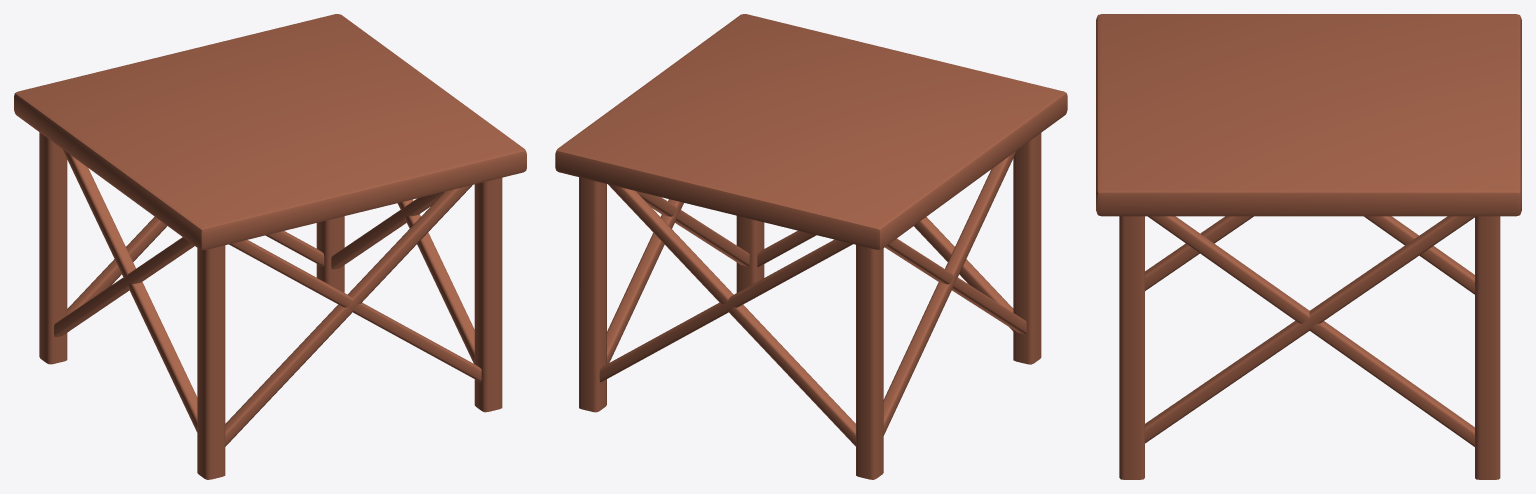
File: Wooden_Frame.fbx
3 views of the same model, side by side, from view 1: azimuth 30°, elevation 25°; view 2: azimuth 150°, elevation 25°; view 3: azimuth 270°, elevation 25° (orthographic). The views are drawn at different scales.
Visible parts, largest first — view 1: Wooden_Frame; view 2: Wooden_Frame; view 3: Wooden_Frame.
Boxes of the visible parts, x1,y1,x2,y2 form: Wooden_Frame: (14,14,526,479); Wooden_Frame: (555,14,1067,479); Wooden_Frame: (1096,14,1521,479).
Size of the model in its own units: 2418 by 1853 by 2418.
